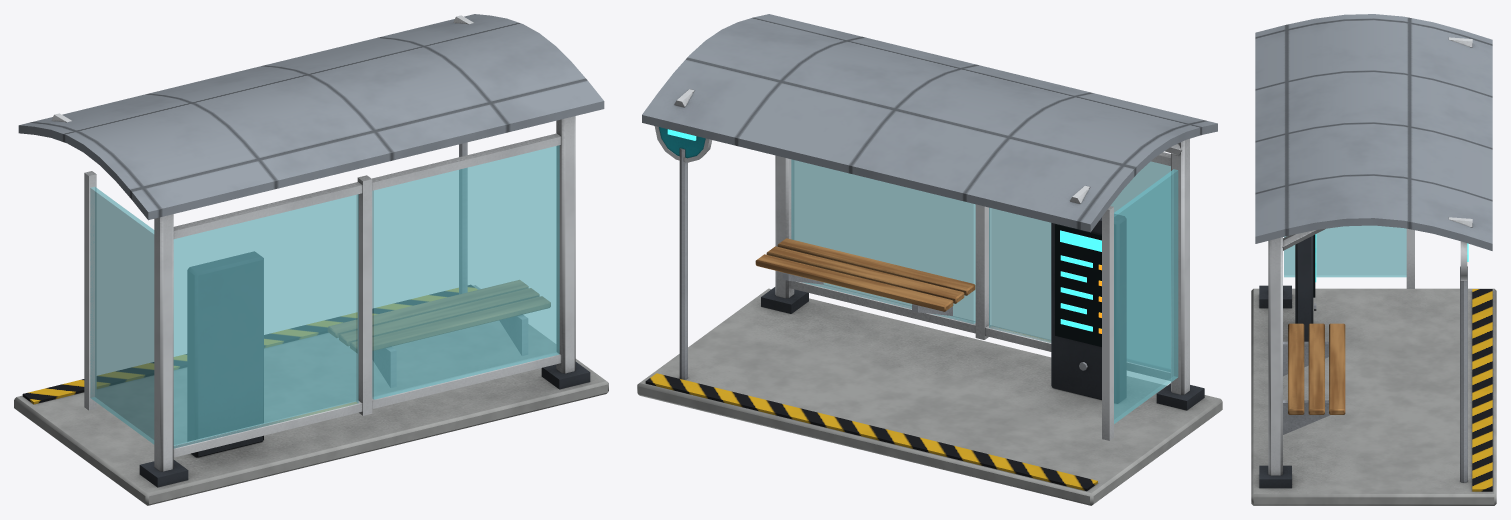
File: marquesina_parada.fbx
3 renders of one model, left to right at view 1: azimuth 30°, elevation 25°; view 2: azimuth 150°, elevation 25°; view 3: azimuth 270°, elevation 25°, orthographic. The views are drawn at different scales.
Parts seen in each view (by area): view 1: marquesina_parada, marquesina_parada_cristal; view 2: marquesina_parada, marquesina_parada_cristal, marquesina_parada_pantalla_neon; view 3: marquesina_parada, marquesina_parada_cristal.
Boxes of the visible parts, x1,y1,x2,y2 form: marquesina_parada: (14,14,608,505); marquesina_parada_cristal: (90,145,559,448); marquesina_parada: (637,14,1222,505); marquesina_parada_cristal: (791,159,1178,423); marquesina_parada_pantalla_neon: (1060,230,1101,331); marquesina_parada: (1251,14,1496,505); marquesina_parada_cristal: (1284,225,1406,277).
Size of the model in its own units: 6 by 3.87 by 3.
Materials: 3 (3 with a texture image).
